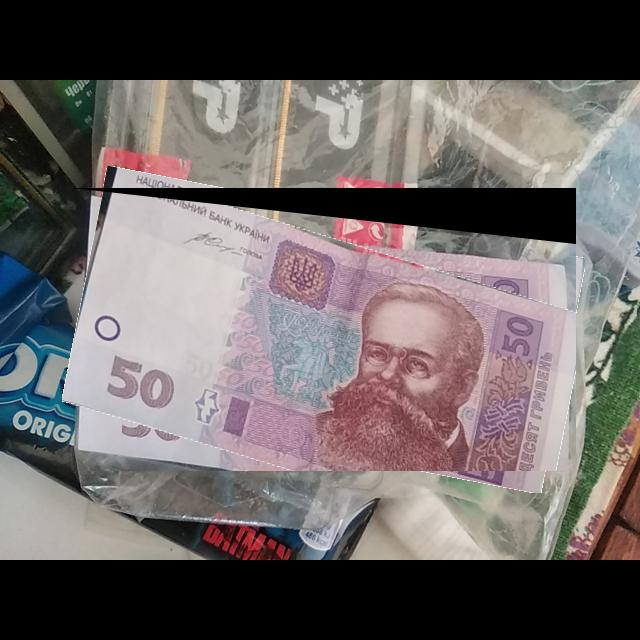50uah: (71, 188, 577, 472)
